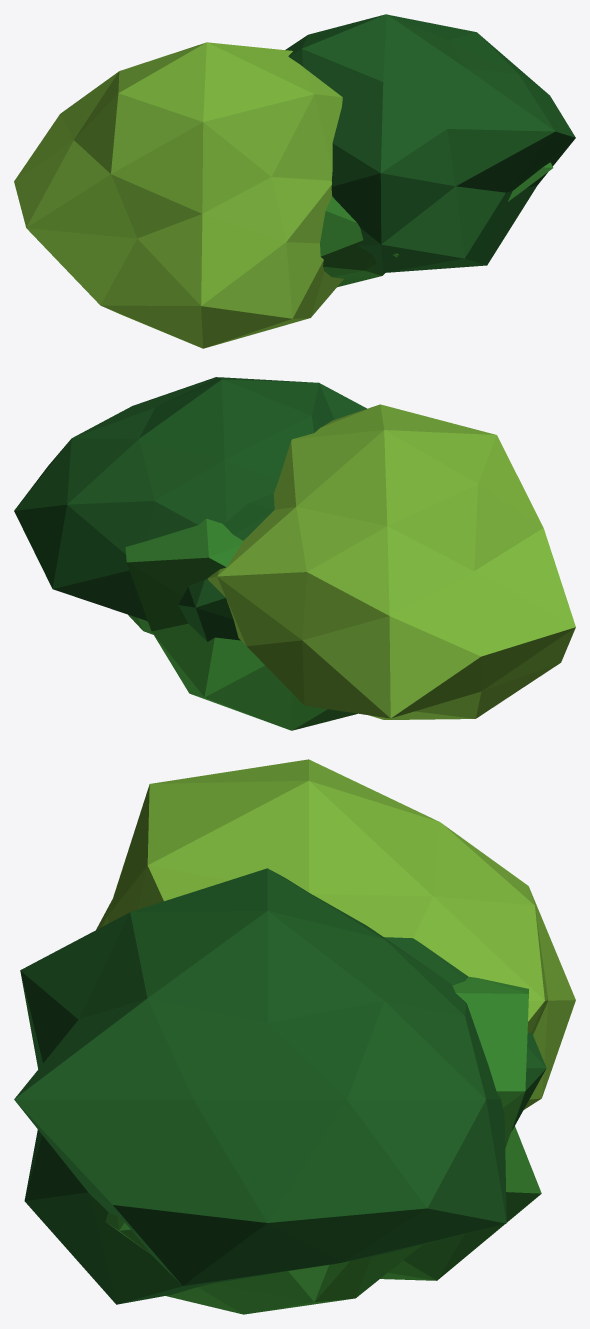
Rendered from bush.glb.
3 views of the same model, one above another, from view 1: azimuth 30°, elevation 25°; view 2: azimuth 150°, elevation 25°; view 3: azimuth 270°, elevation 25° (orthographic). The views are drawn at different scales.
Parts seen in each view (by area): view 1: leaf_light, leaf_dark, leaf; view 2: leaf_light, leaf_dark, leaf; view 3: leaf_dark, leaf_light, leaf.
Boxes of the visible parts, x1=… form: leaf_light: x1=14, y1=42, x2=343, y2=348; leaf_dark: x1=285, y1=14, x2=575, y2=272; leaf: x1=320, y1=162, x2=553, y2=287; leaf_light: x1=207, y1=404, x2=575, y2=719; leaf_dark: x1=14, y1=377, x2=366, y2=641; leaf: x1=125, y1=518, x2=357, y2=730; leaf_dark: x1=14, y1=868, x2=546, y2=1304; leaf_light: x1=96, y1=759, x2=575, y2=1109; leaf: x1=105, y1=977, x2=541, y2=1314.
Size of the model in its own units: 2.58 by 1.32 by 1.59.
